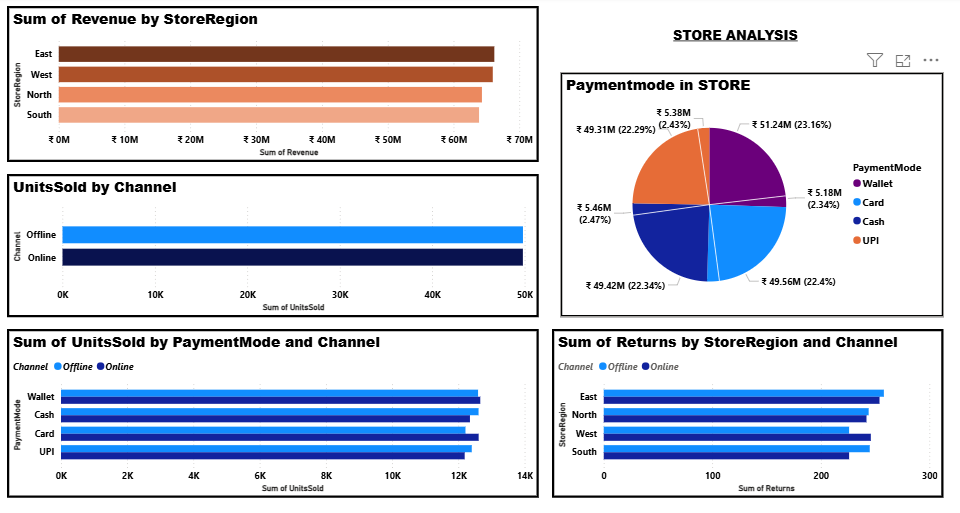

This screenshot's page, from the dashboard's own definition file:
{"tool":"powerbi","page":{"name":"store analysis","canvas":[1280,720],"ordinal":4},"visuals":[{"type":"clusteredBarChart","fields":{"Category":["clearnowsales.StoreRegion"],"Y":["Sum(clearnowsales.Revenue)"]},"box":[10,11.4,709.2,208.3],"z":0},{"type":"clusteredBarChart","title":"UnitsSold by Channel","fields":{"Category":["clearnowsales.Channel"],"Y":["Sum(clearnowsales.UnitsSold)"]},"box":[10,235.5,709.2,191.2],"z":1000},{"type":"clusteredBarChart","fields":{"Category":["clearnowsales.PaymentMode"],"Y":["Sum(clearnowsales.UnitsSold)"],"Series":["clearnowsales.Channel"]},"box":[10,442.4,709.2,225.5],"z":2000},{"type":"clusteredBarChart","fields":{"Series":["clearnowsales.Channel"],"Category":["clearnowsales.StoreRegion"],"Y":["Sum(clearnowsales.Returns)"]},"box":[736.3,442.4,522.3,225.5],"z":3000},{"type":"pieChart","title":"Paymentmode in  STORE","fields":{"Category":["clearnowsales.PaymentMode"],"Y":["Sum(clearnowsales.NetSales)","Sum(clearnowsales.ReturnAmount)"]},"box":[746.3,99.9,512.3,326.8],"z":4000},{"type":"shape","box":[830.5,11.4,299.7,75.6],"z":5000}]}

Visuals, with their boxes on the page's 1280x720 design canvas (x1, y1, x2, y2). These are canvas units, not pixel positions in the 960x513 screenshot, which may show the page scaled, cropped or inside an application window:
clusteredBarChart - clearnowsales.StoreRegion x Sum(clearnowsales.Revenue): l=10, t=11, r=719, b=220
"UnitsSold by Channel" clusteredBarChart: l=10, t=236, r=719, b=427
clusteredBarChart - clearnowsales.PaymentMode x Sum(clearnowsales.UnitsSold): l=10, t=442, r=719, b=668
clusteredBarChart - clearnowsales.Channel x clearnowsales.StoreRegion: l=736, t=442, r=1259, b=668
"Paymentmode in  STORE" pieChart: l=746, t=100, r=1259, b=427
shape: l=830, t=11, r=1130, b=87
